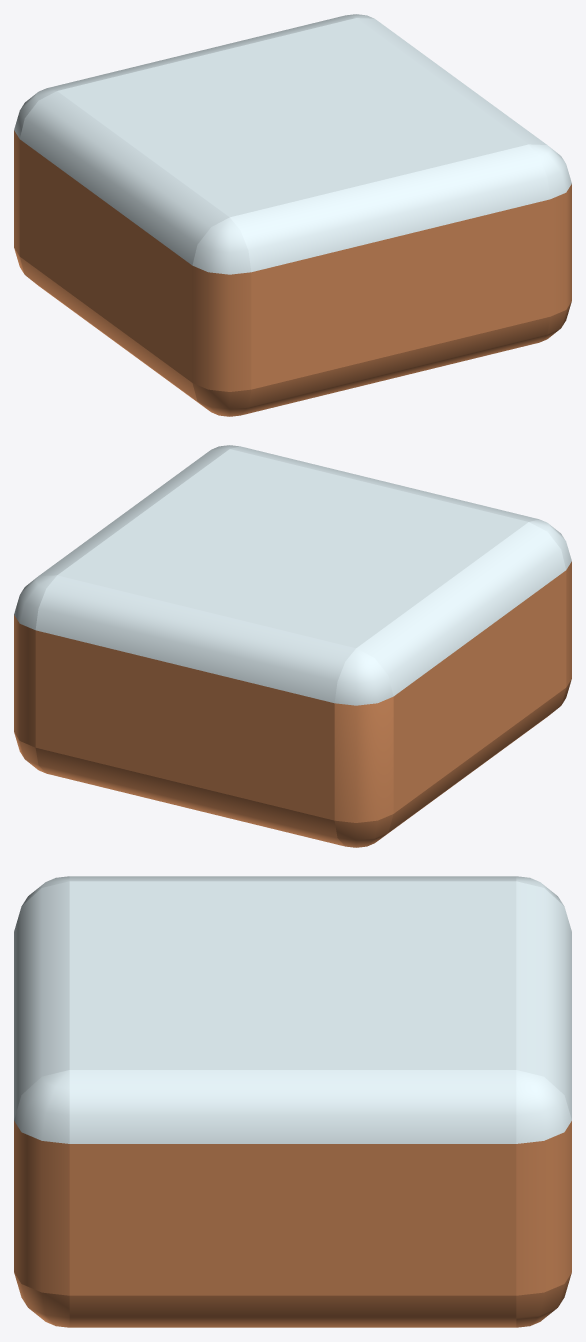
The model's file is blockSnowRoundedLow.fbx.
3 views of the same model, one above another, from view 1: azimuth 30°, elevation 25°; view 2: azimuth 150°, elevation 25°; view 3: azimuth 270°, elevation 25° (orthographic). The views are drawn at different scales.
Visible parts, largest first — view 1: blockSnowRoundedLow; view 2: blockSnowRoundedLow; view 3: blockSnowRoundedLow.
Boxes of the visible parts, x1=… form: blockSnowRoundedLow: x1=14, y1=14, x2=571, y2=416; blockSnowRoundedLow: x1=14, y1=445, x2=571, y2=847; blockSnowRoundedLow: x1=14, y1=876, x2=571, y2=1327.
Bounding box in the file's own units: 10 × 5 × 10.
